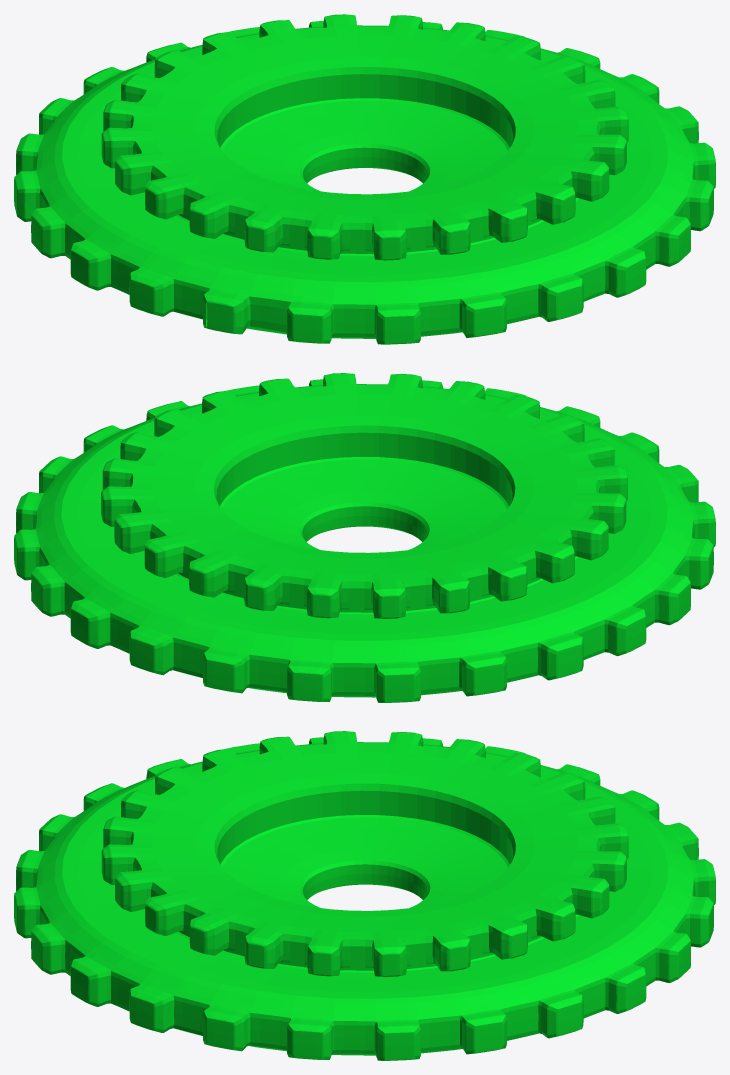
The model's file is gear_base-1.glb.
3 renders of one model, top to bottom at view 1: azimuth 30°, elevation 25°; view 2: azimuth 150°, elevation 25°; view 3: azimuth 270°, elevation 25°, orthographic.
Visible parts, largest first — view 1: Torus; view 2: Torus; view 3: Torus.
Boxes of the visible parts, x1,y1,x2,y2 form: Torus: (14, 14, 715, 344); Torus: (14, 373, 715, 702); Torus: (14, 731, 715, 1060).
Bounding box in the file's own units: 2.59 × 0.3558 × 2.59.
